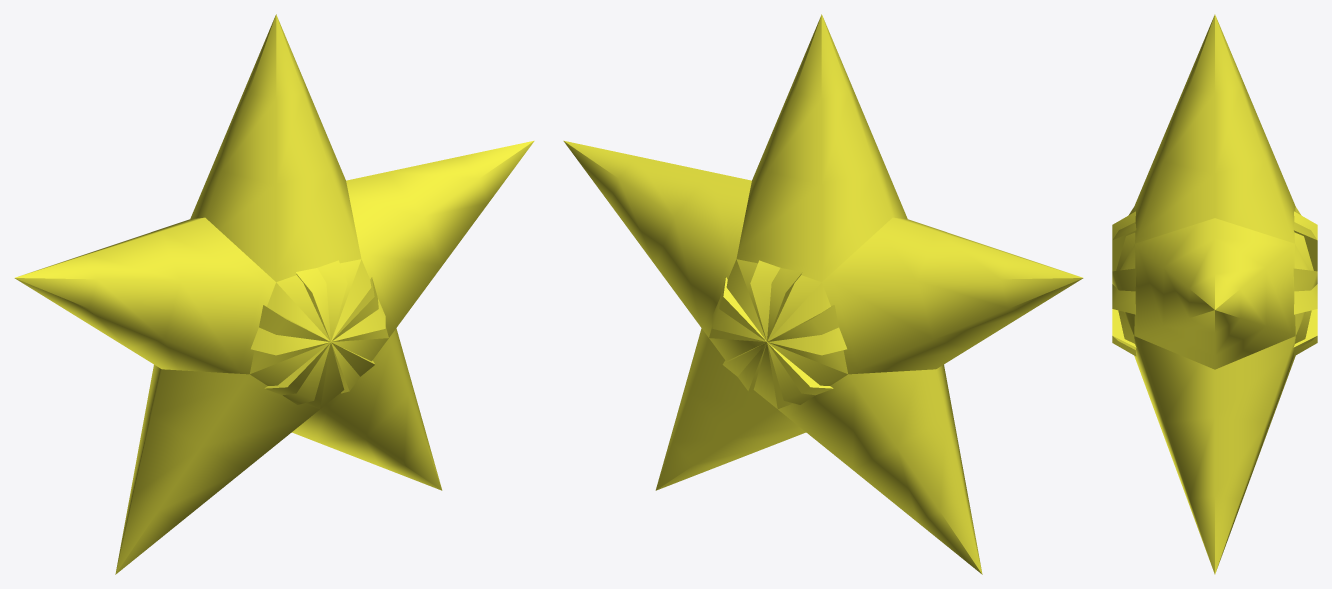
The model's file is SM_Star.FBX.
3 views of the same model, side by side, from view 1: azimuth 30°, elevation 25°; view 2: azimuth 150°, elevation 25°; view 3: azimuth 270°, elevation 25° (orthographic). The views are drawn at different scales.
Visible parts, largest first — view 1: Cone006; view 2: Cone006; view 3: Cone006.
Boxes of the visible parts, x1,y1,x2,y2 form: Cone006: [14, 14, 534, 574]; Cone006: [563, 14, 1083, 574]; Cone006: [1112, 14, 1317, 574].
Size of the model in its own units: 66.78 by 63.94 by 24.33.
